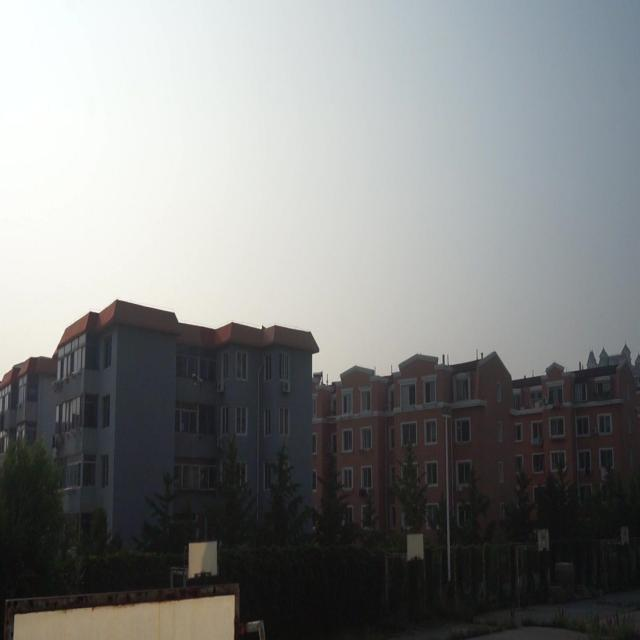UAV: (192, 374, 203, 386)
